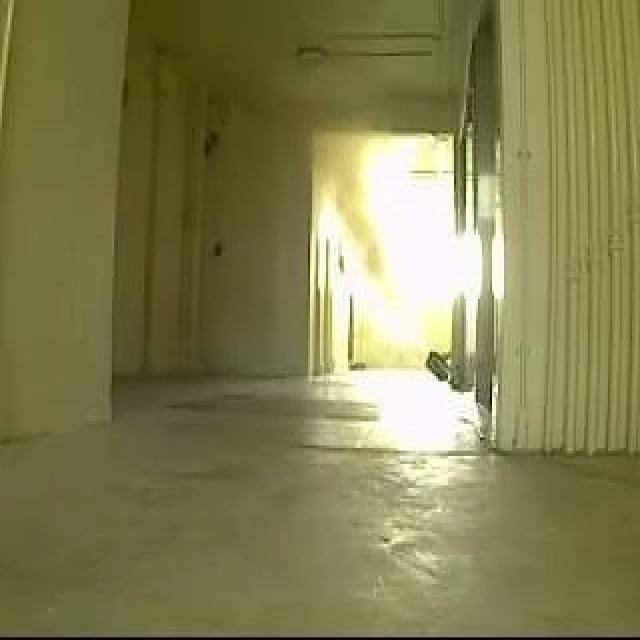smoke: (245, 40, 396, 197)
